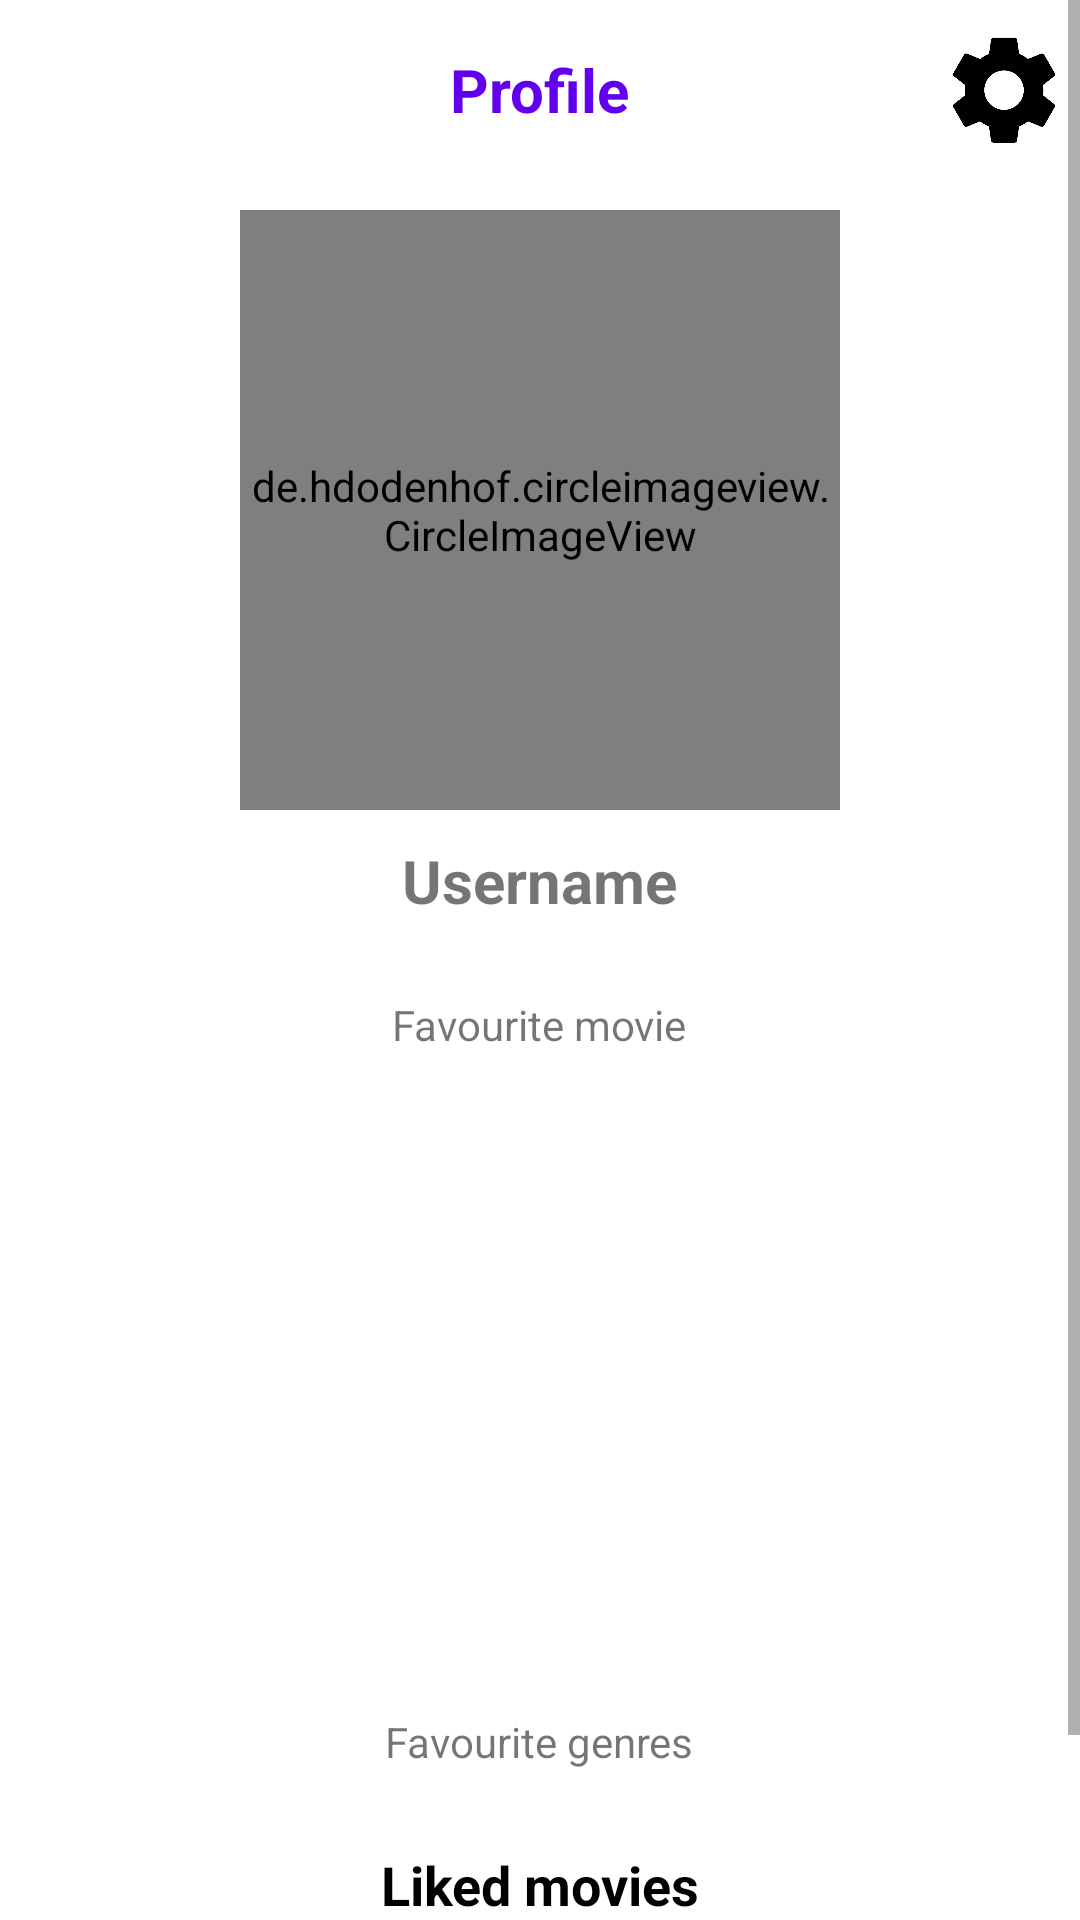

Icons on this 1080 x 1920 Android screen, each with its box as [left=x1, top=y1, right=x2, bottom=y2]:
settings: [left=953, top=38, right=1055, bottom=143]
